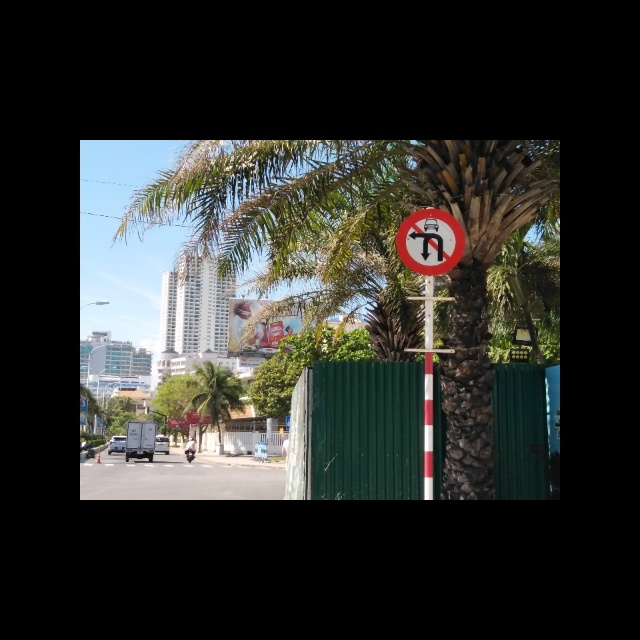Cấm xe ô tô quay đầu và rẽ trái: (394, 208, 465, 280)
